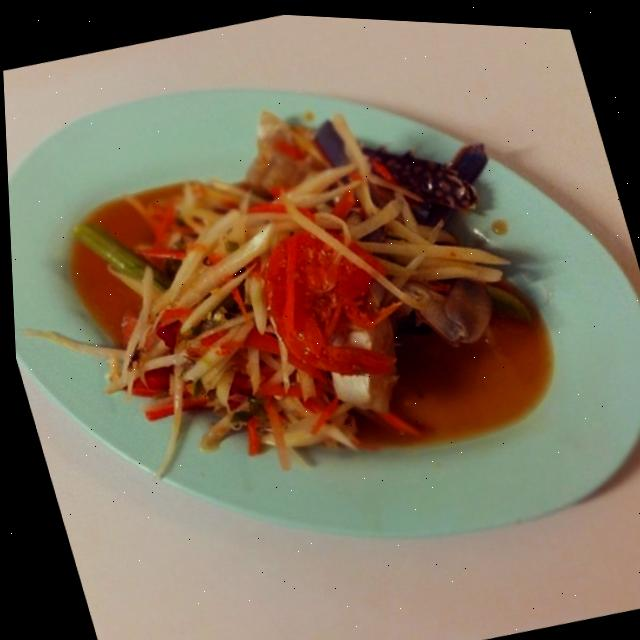蔬菜料理: (52, 52, 577, 525)
